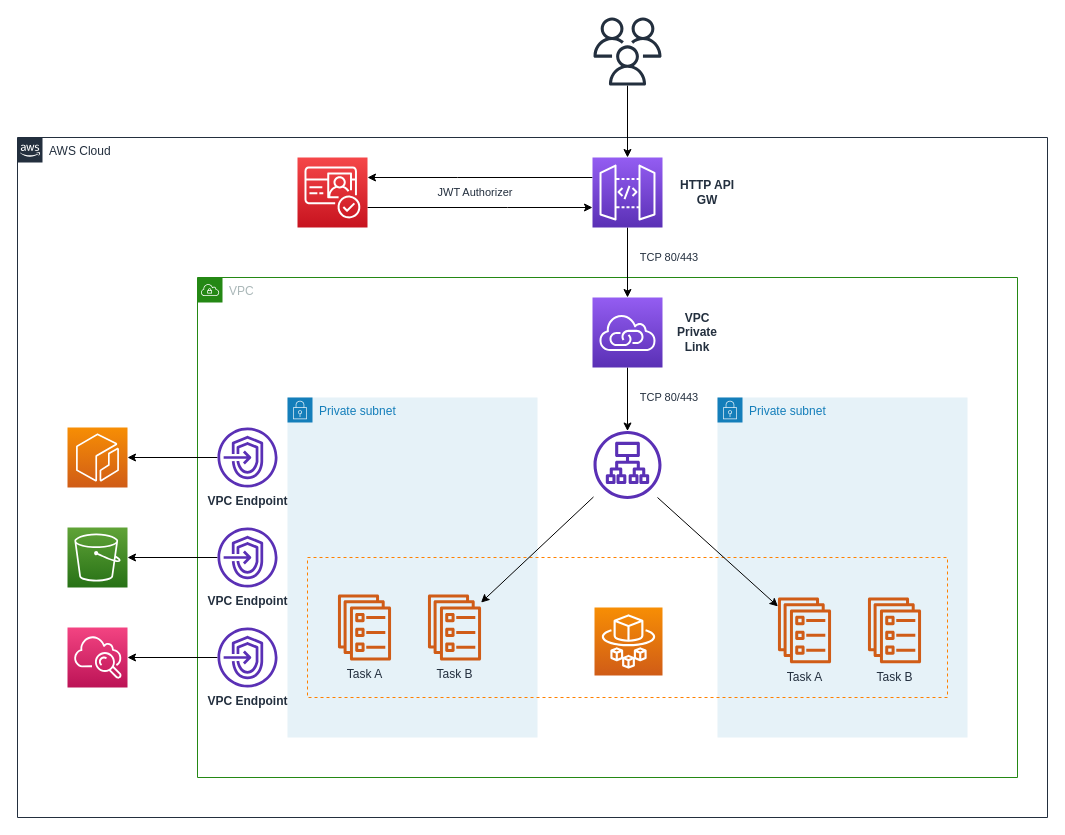
This 1065x835 diagram has some shape labels left out. Each missing label, with the box of its shape:
Cloudwatch: (66, 626, 128, 688)
Cognito: (296, 156, 368, 228)
ECR: (66, 426, 128, 488)
ECS Fargate: (594, 606, 662, 676)
S3: (66, 526, 128, 588)
